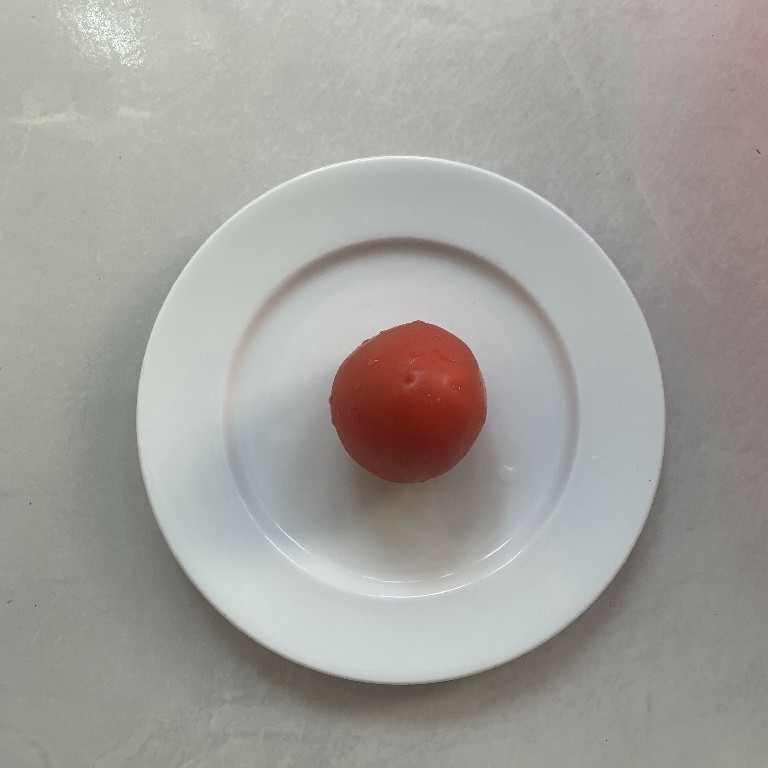OK: (326, 312, 499, 487)
